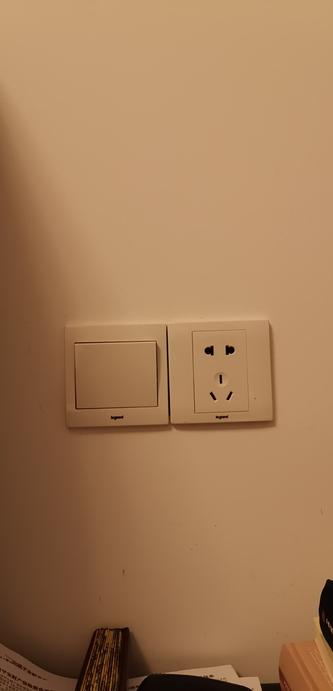switch: (66, 335, 167, 417)
